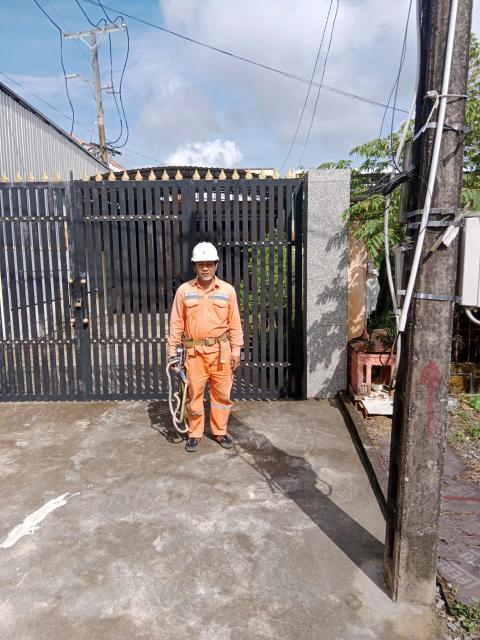harness: (183, 331, 233, 353)
helmet: (177, 237, 228, 269)
shoes: (209, 425, 236, 450), (180, 430, 205, 454)
